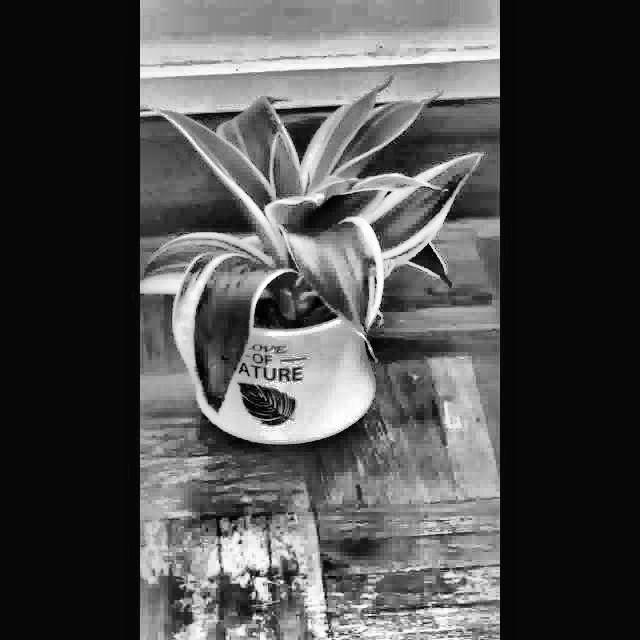plants: (140, 73, 484, 458)
